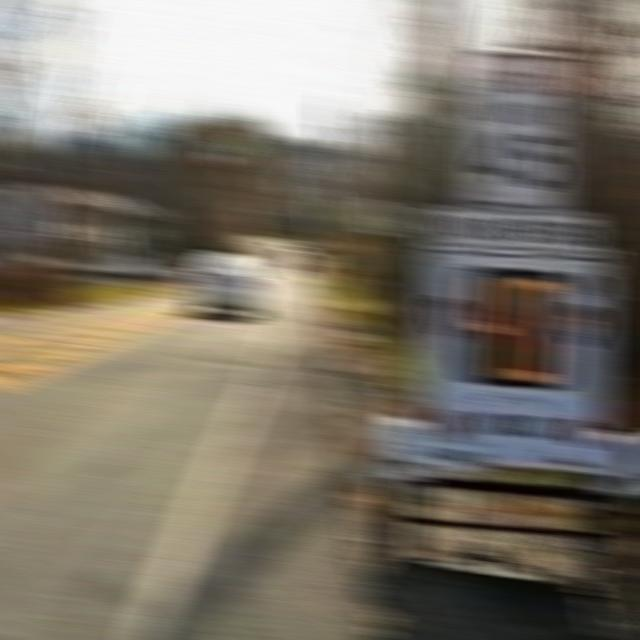speedLimit45: (467, 56, 571, 210)
